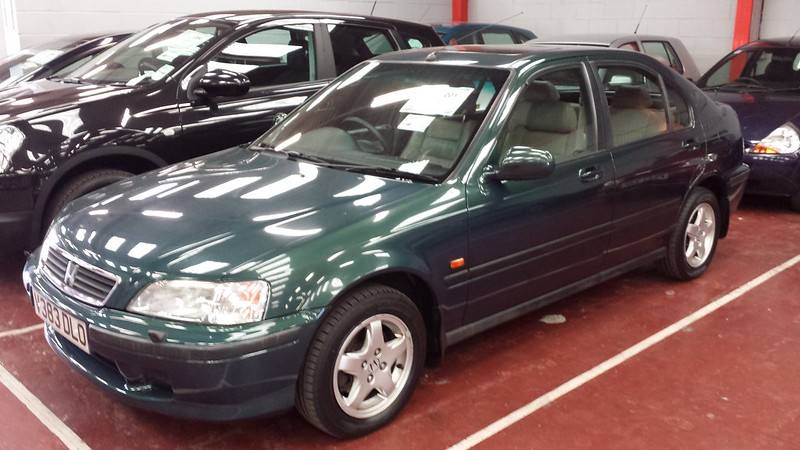number_plate: (27, 281, 97, 364)
